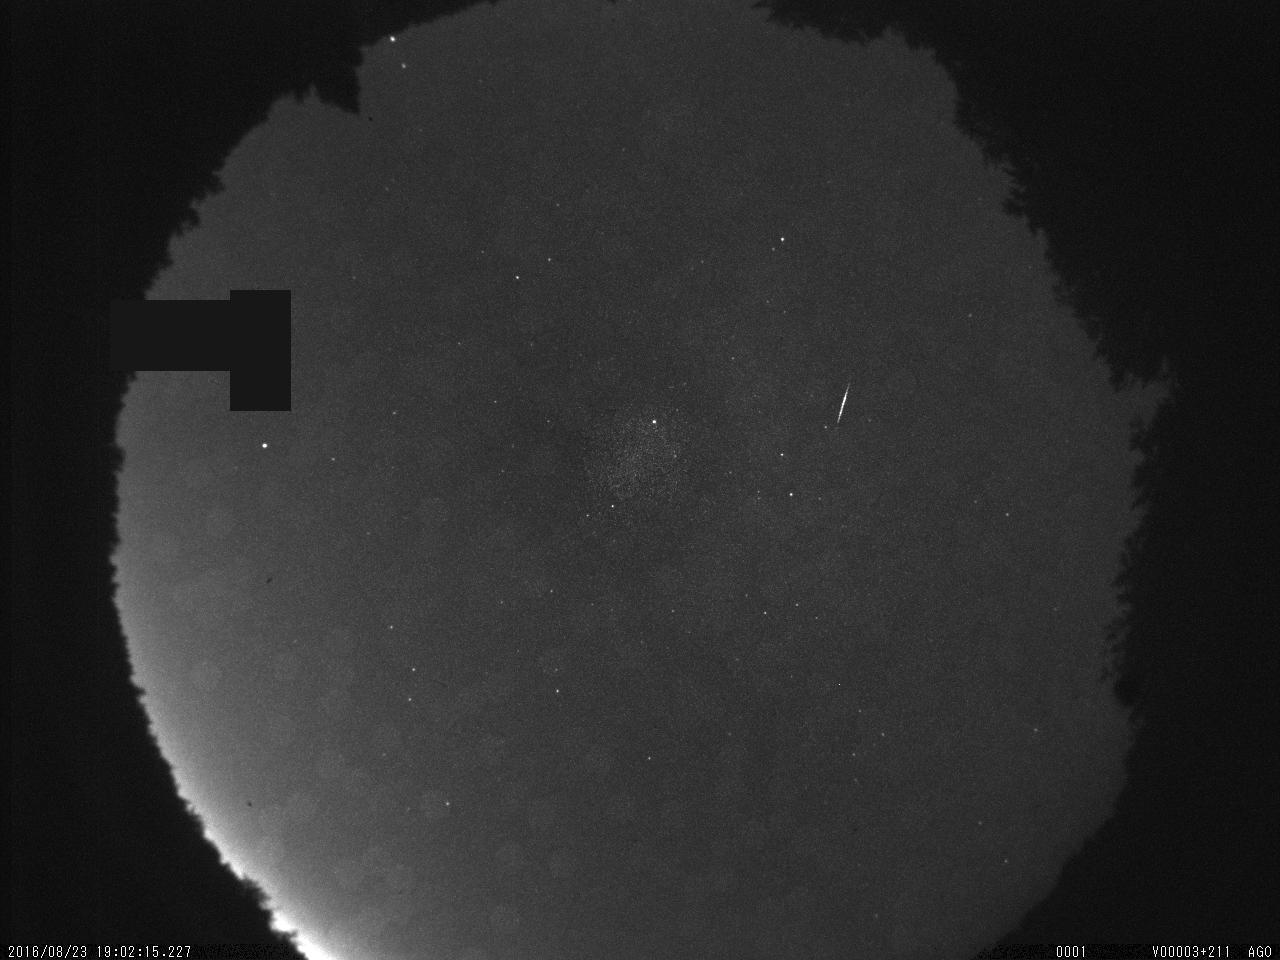meteor: (833, 375, 858, 440)
